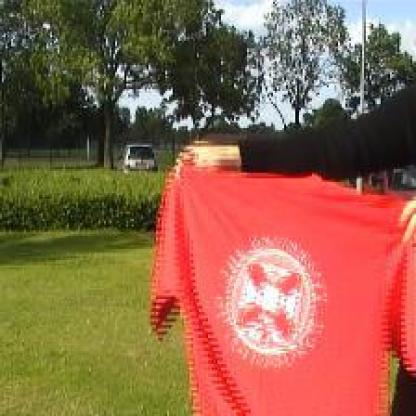other: (152, 158, 412, 408)
